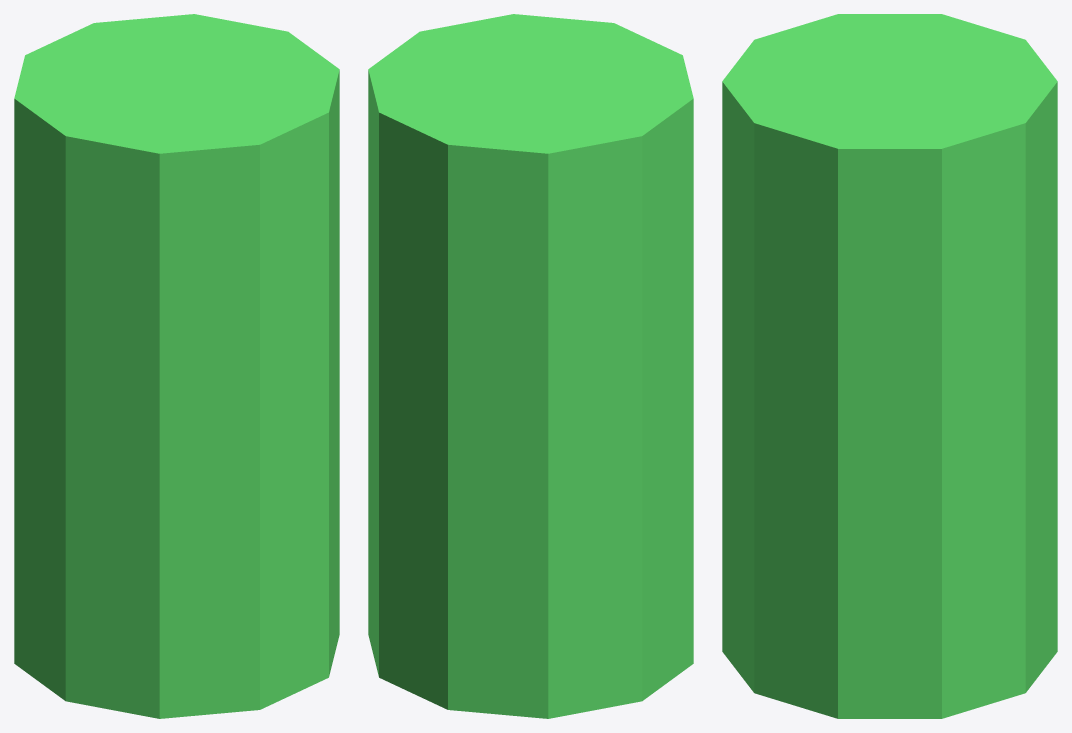
The model's file is prop_dna_vial_liquid.glb.
3 renders of one model, left to right at view 1: azimuth 30°, elevation 25°; view 2: azimuth 150°, elevation 25°; view 3: azimuth 270°, elevation 25°, orthographic.
Parts seen in each view (by area): view 1: prop_dna_vial_liquid; view 2: prop_dna_vial_liquid; view 3: prop_dna_vial_liquid.
Boxes of the visible parts, box(x1,y1,x2,y2) form: prop_dna_vial_liquid: box(14, 14, 339, 718); prop_dna_vial_liquid: box(368, 14, 693, 718); prop_dna_vial_liquid: box(722, 14, 1057, 718).
Size of the model in its own units: 0.0761 by 0.15 by 0.08.
Materials: 1 (1 with a texture image).
